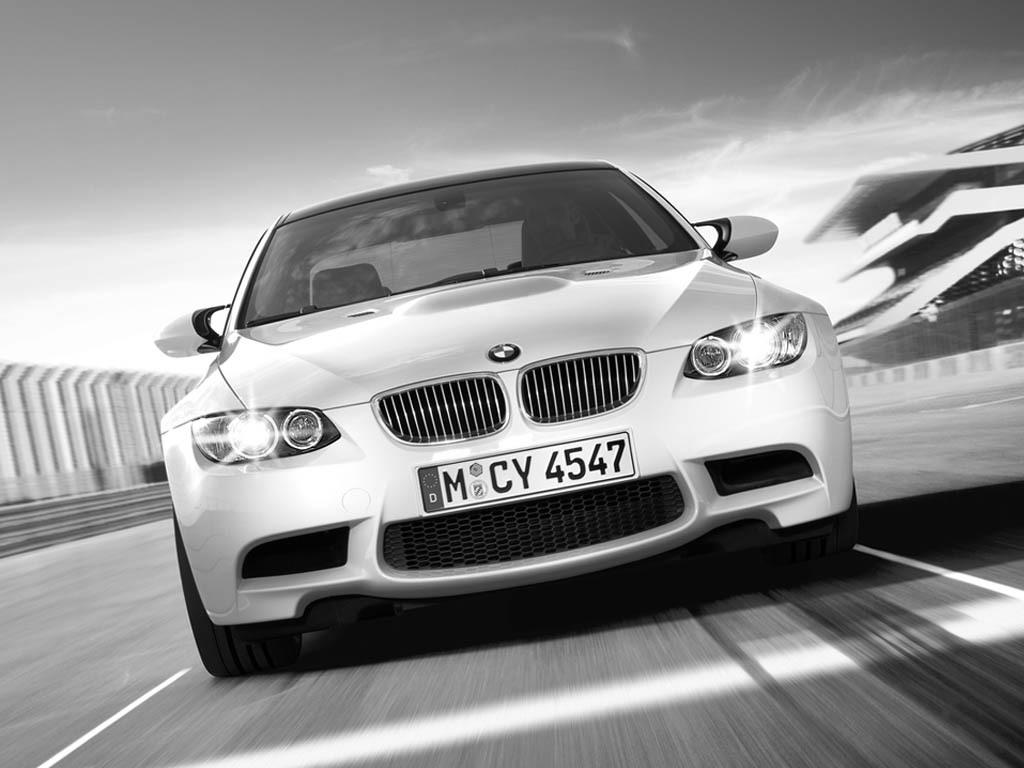car: (151, 157, 865, 688)
